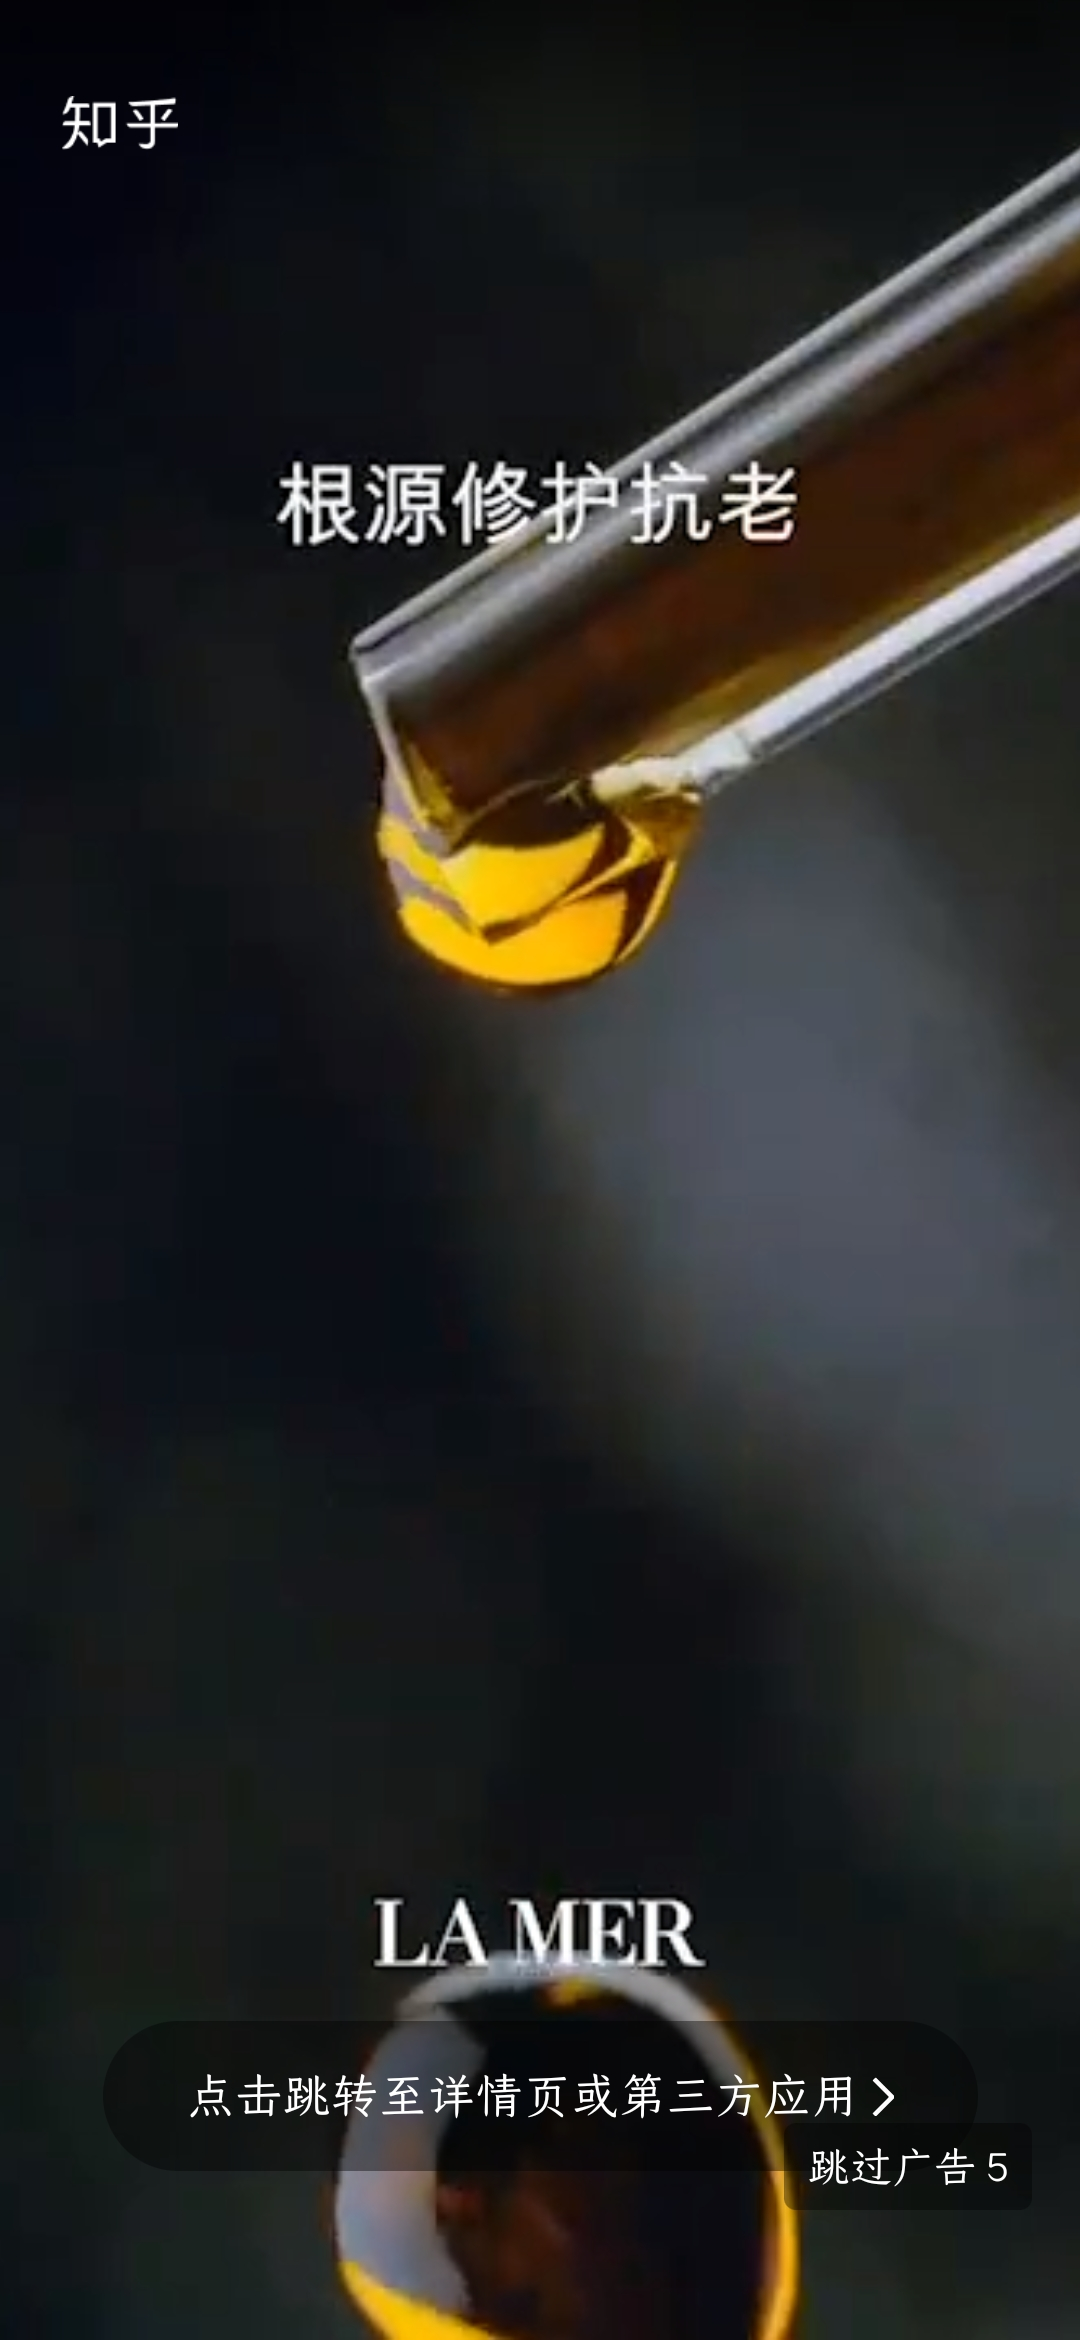skip: (801, 2142, 1020, 2206)
